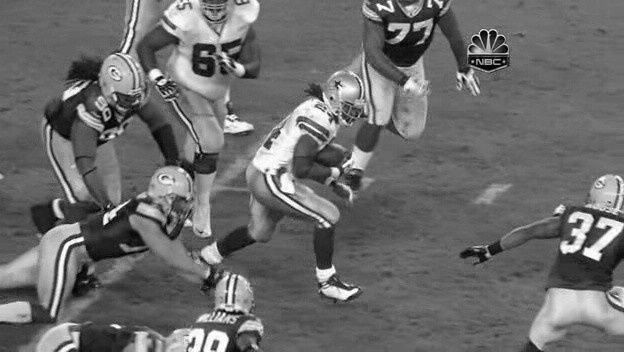person: (326, 72, 362, 124), (325, 72, 361, 124), (327, 72, 363, 124), (326, 71, 362, 123), (326, 73, 362, 125)
target_negative: (182, 21, 489, 160), (6, 254, 570, 311), (165, 309, 373, 325), (288, 299, 358, 323), (617, 137, 621, 257)
